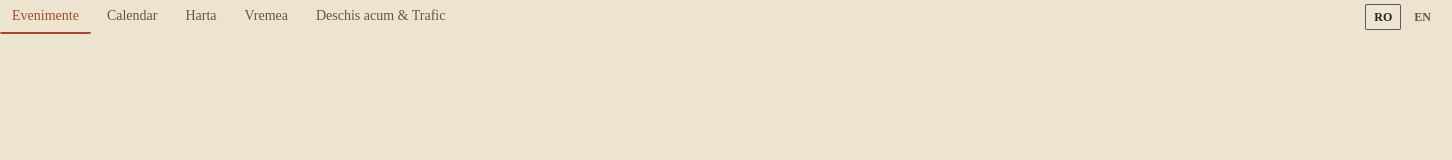
Test: NavBar › switches locale from the nav
Click the button "en". click: (1423, 17)
box: x1=1405 y1=4 x2=1440 y2=30
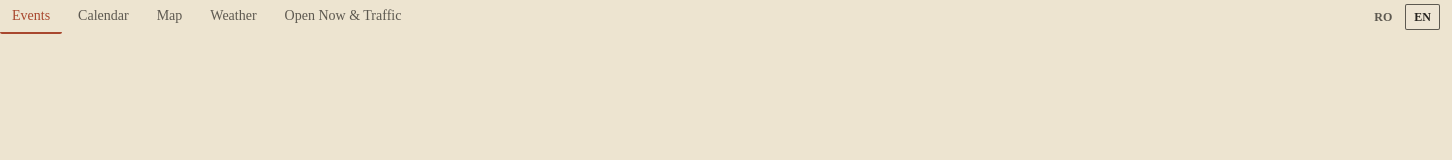
Result: the link "Events" is shown at x1=0 y1=0 x2=62 y2=34
